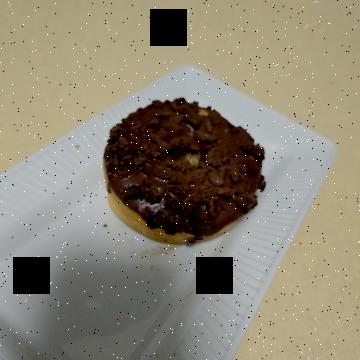doughnut: (77, 84, 260, 272)
